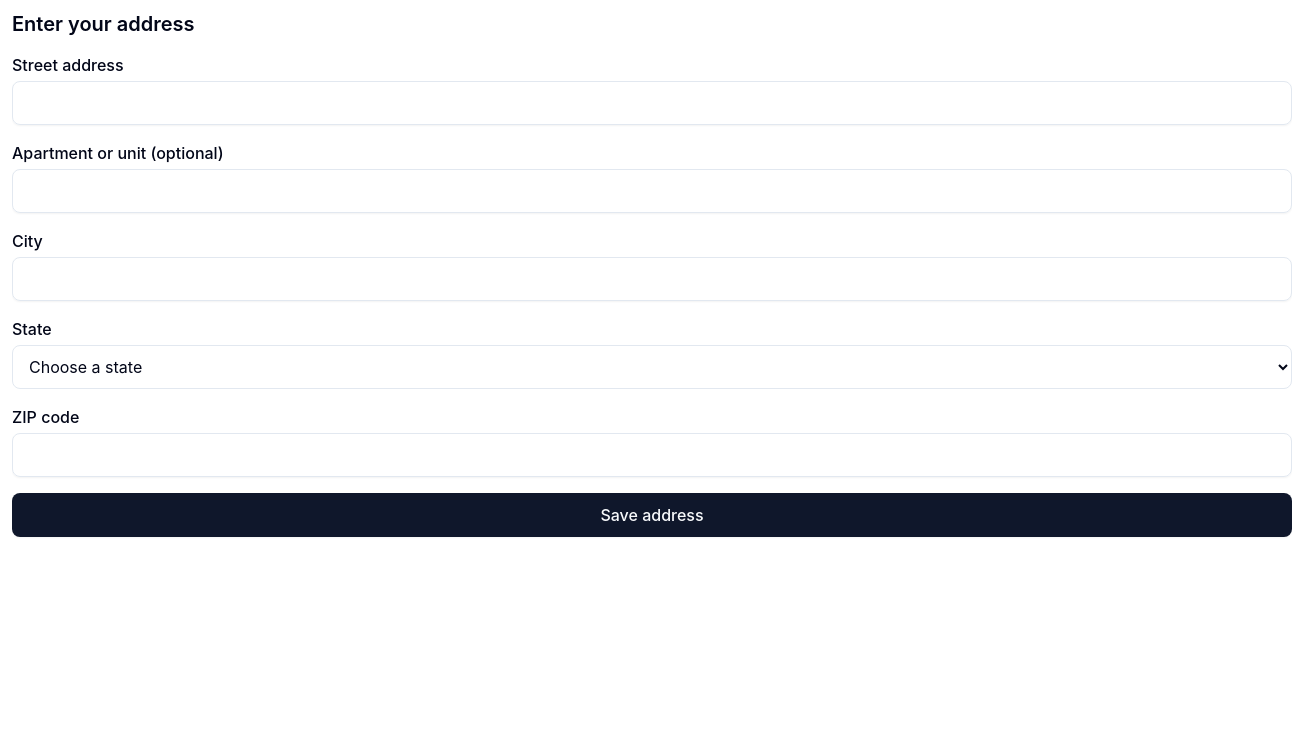
it: ManualAddressForm › submitting empty shows the four field errors
Step 1. Click the button "Save address" → click(652, 515), box [12,493,1292,537]
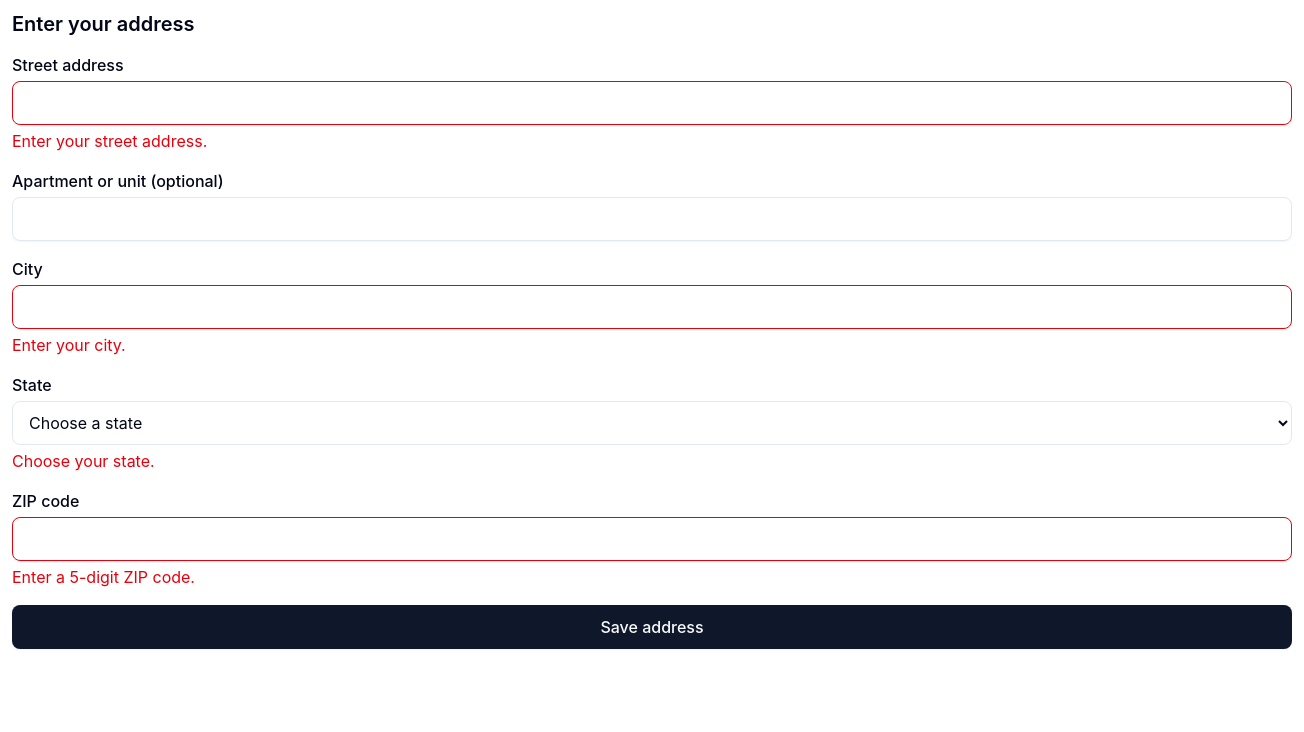
expect the text "Enter your street address." is shown: met, box [12,131,207,151]
expect the text "Enter your city." is shown: met, box [12,335,126,355]
expect the text "Choose your state." is shown: met, box [12,451,155,471]
